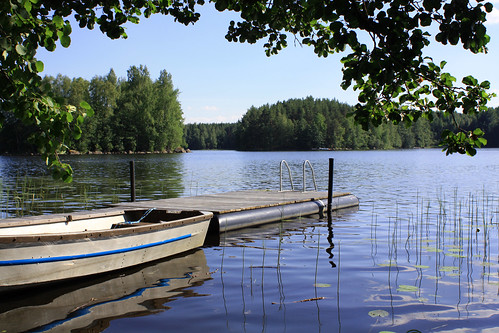boat: (1, 199, 227, 282)
river: (1, 149, 499, 333)
sky: (114, 23, 334, 96)
vegetation: (1, 74, 192, 151), (203, 109, 499, 148)
